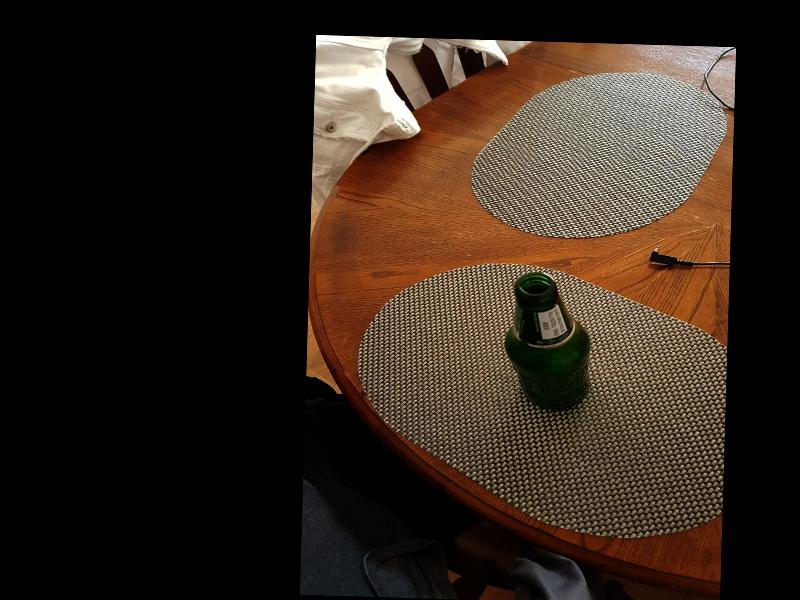Beer: (501, 273, 591, 412)
